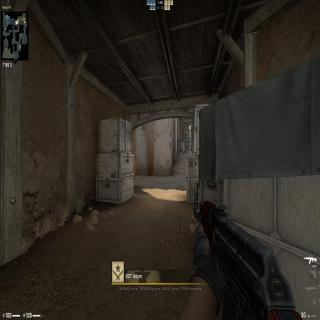CT-Head: (191, 142, 193, 146)
